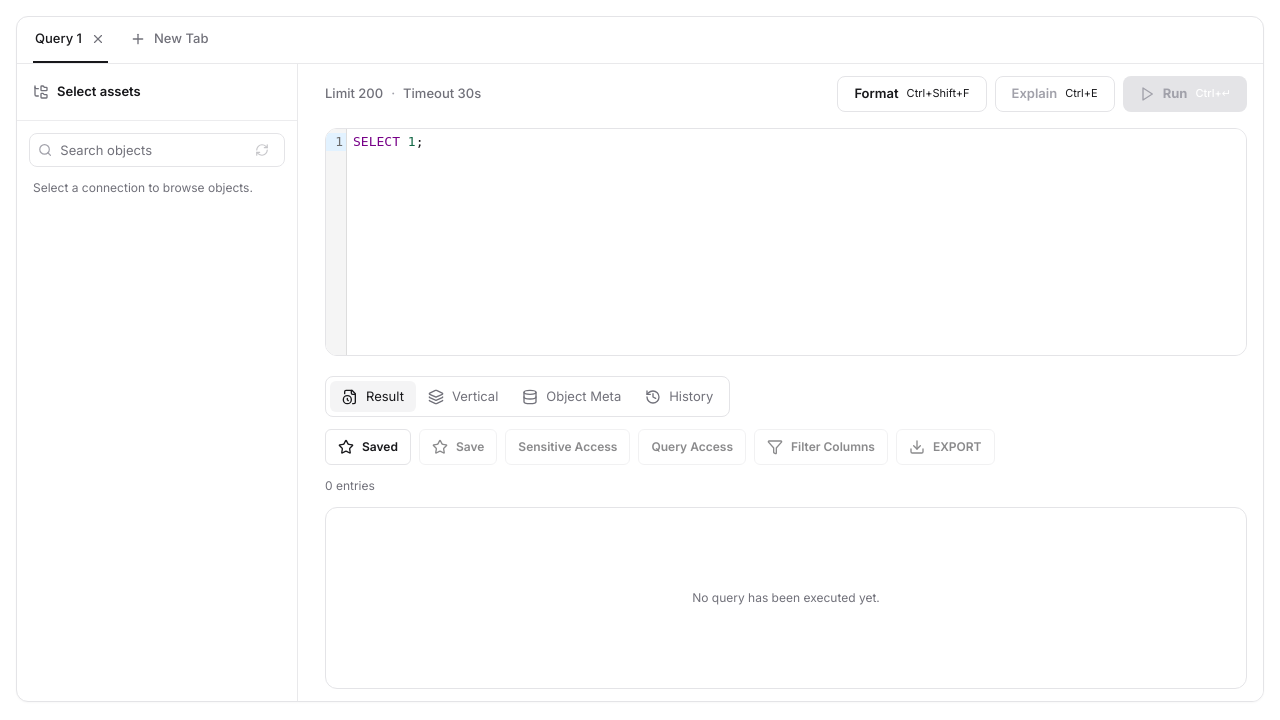
SQLEditorPage › 查詢執行中可以按 Stop 中斷，不會顯示錯誤訊息
Expected: the button "Run Ctrl+↵" is shown, [1123, 76, 1247, 112]
Expected: the button "Stop" is not shown
Click the button with aria-label "Asset Selector" at (157, 92), box [29, 72, 285, 112]
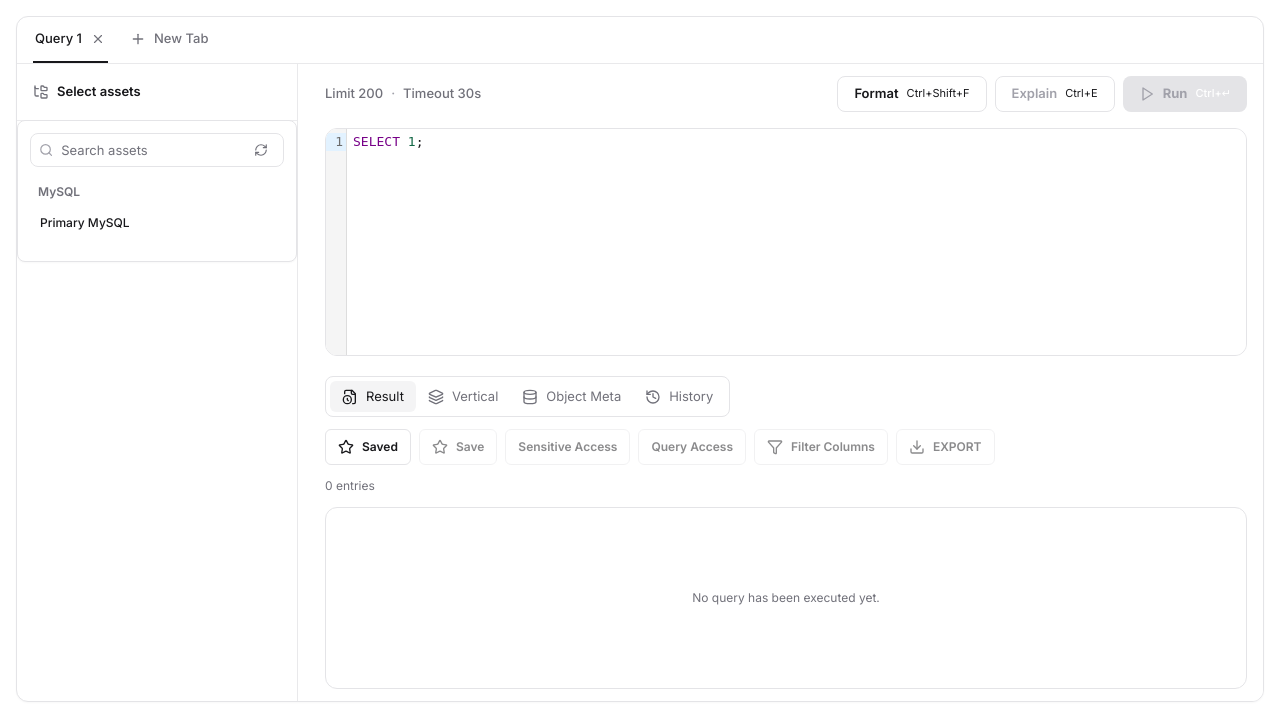
Click the button "Primary MySQL" at (157, 222), box [30, 204, 284, 240]
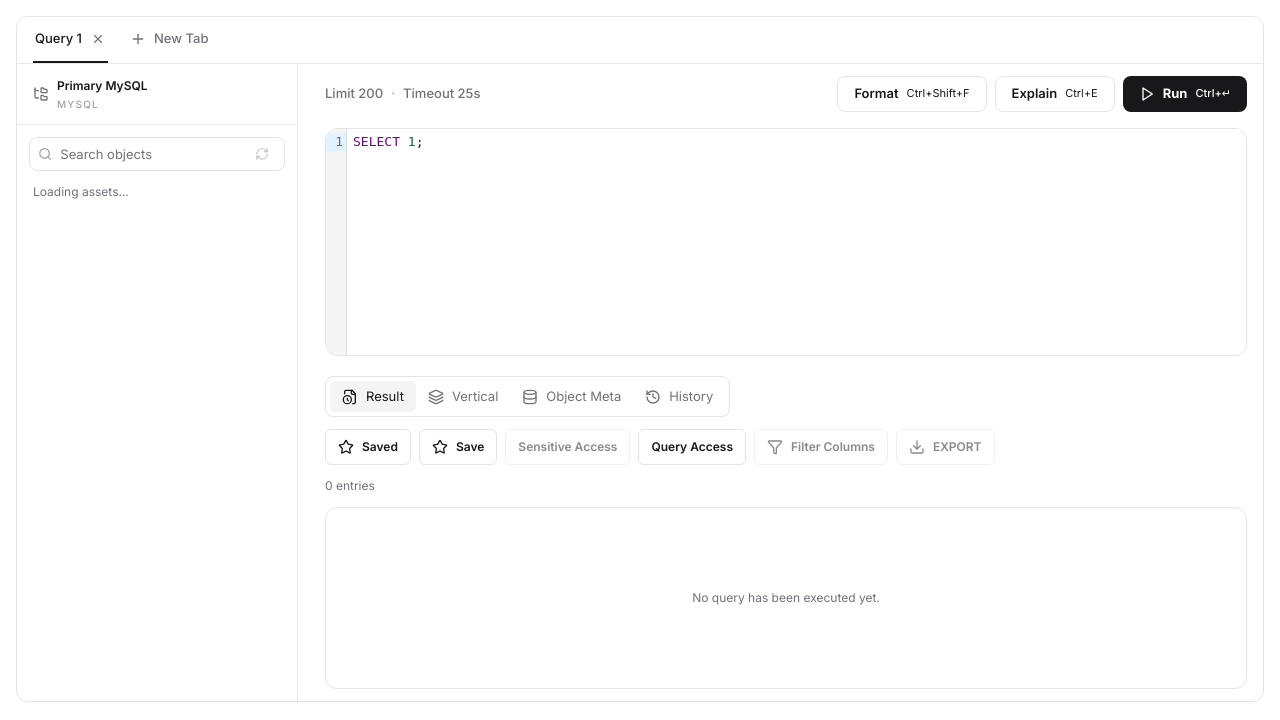
Click the button "History" at (679, 397), box [633, 381, 725, 412]
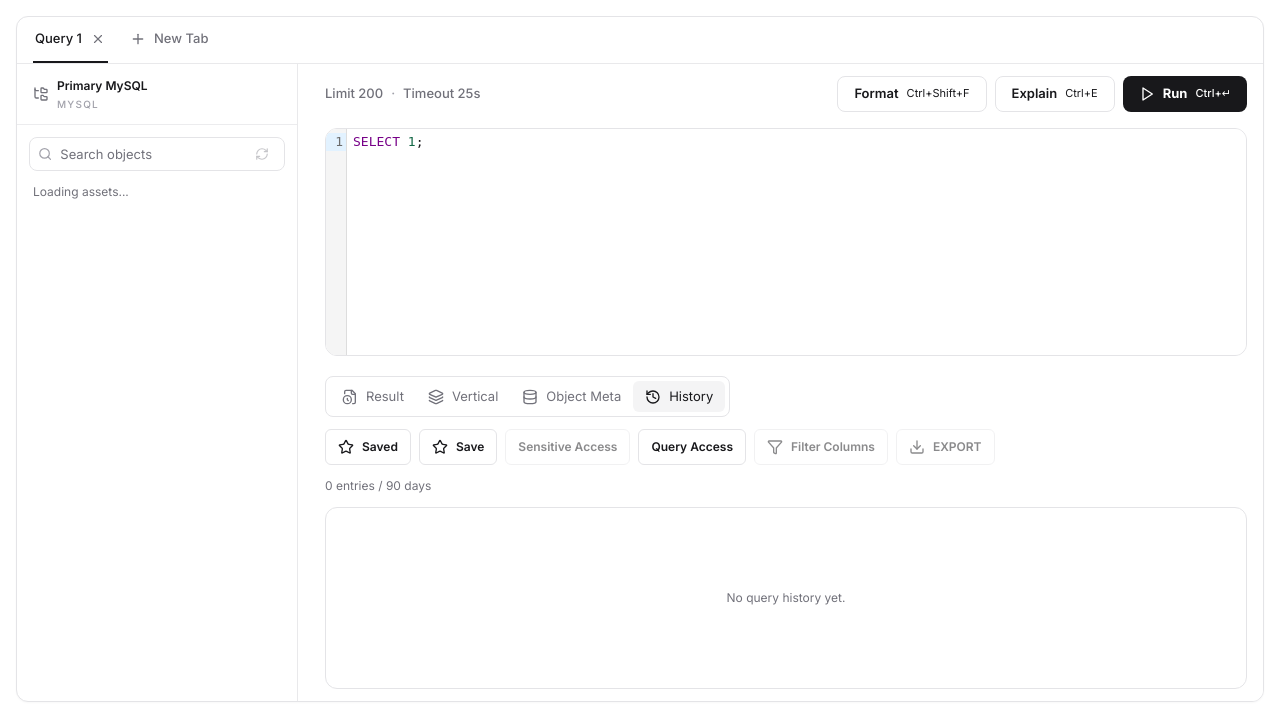
Click the button "Run Ctrl+↵" at (1185, 94), box [1123, 76, 1247, 112]
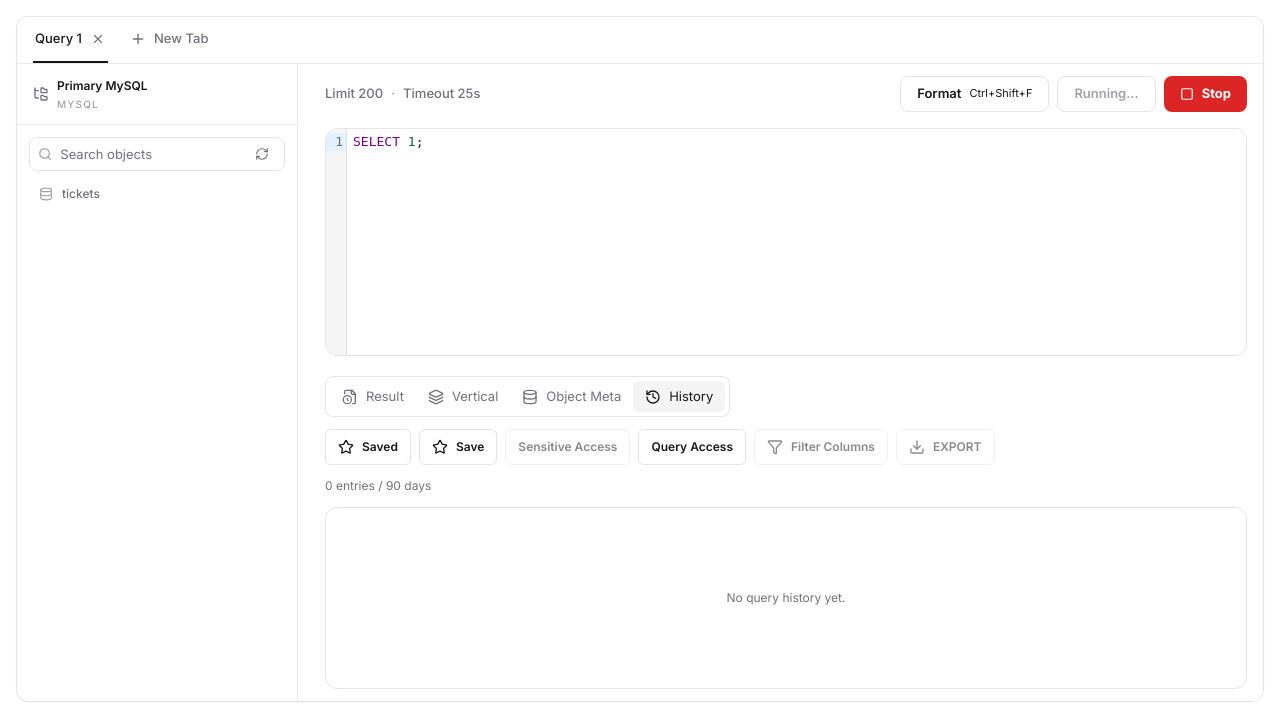
Result: the button "Running..." is shown at [1057, 76, 1156, 112]
Click the button "Stop" at (1205, 94), box [1164, 76, 1247, 112]
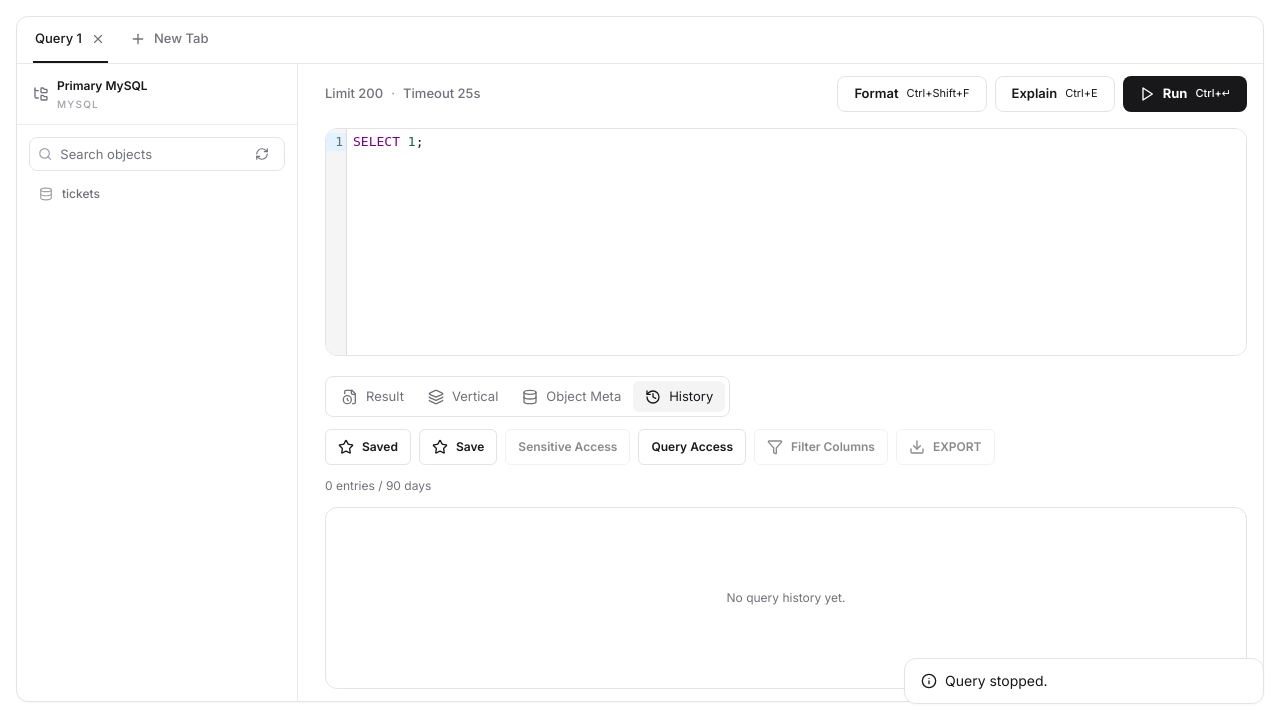
Expected: the button "Run Ctrl+↵" is shown, [1123, 76, 1247, 112]
Result: the text "Query stopped." is shown at [945, 671, 1048, 691]
